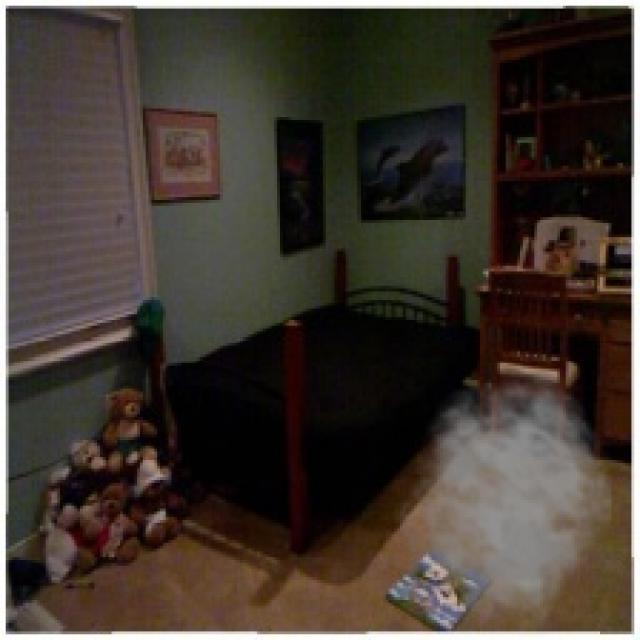Smoke: (394, 368, 614, 638)
